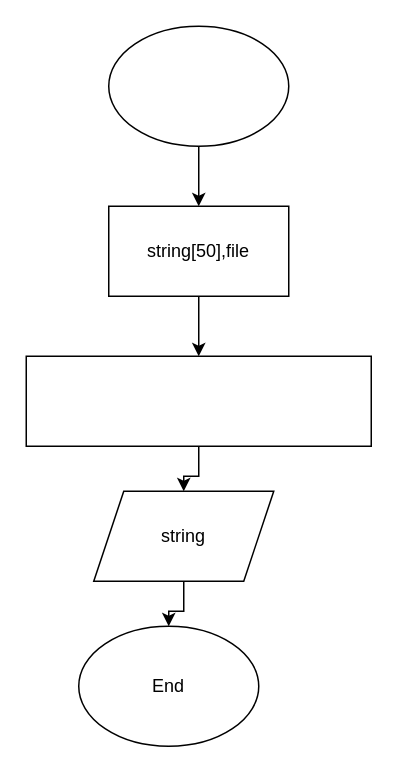
This 398x773 diagram has some shape labels left out. The shapes that lost their labels are listed below. From the top down, each one's box as (x1, y1, x2, y2) in pixels, then its label:
(107, 25, 289, 146): Start
(25, 355, 371, 446): fread(string,1,sizeof(string),file)
